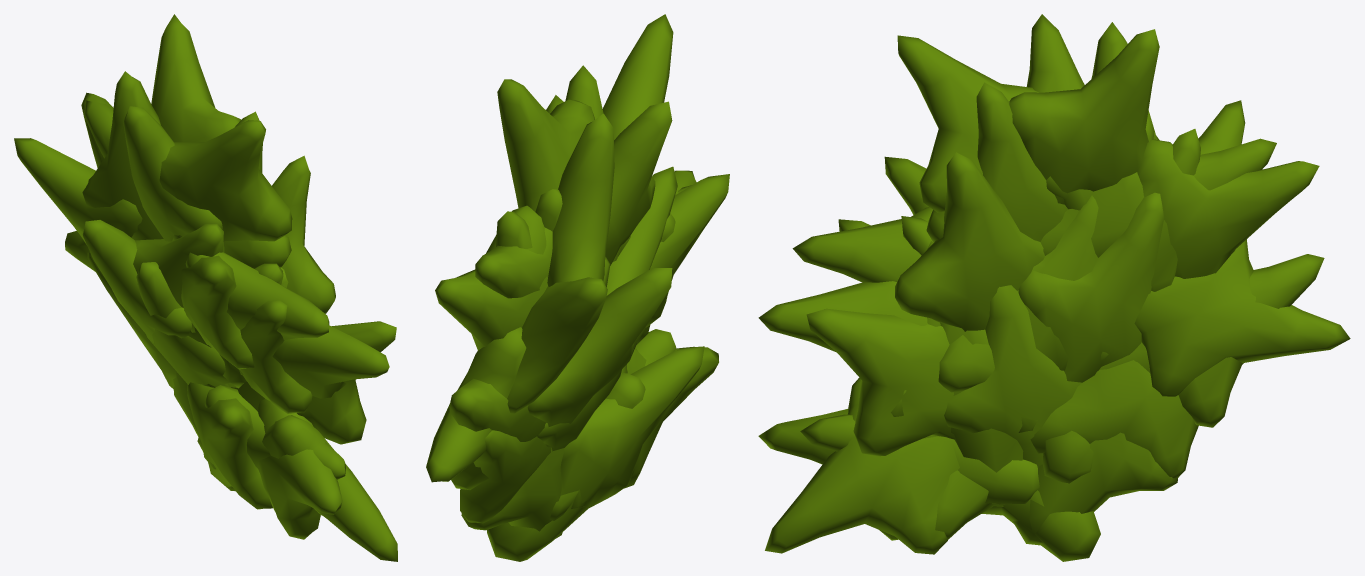
File: Moss.fbx
The picture shows the model from 3 angles, left to right: view 1: azimuth 30°, elevation 25°; view 2: azimuth 150°, elevation 25°; view 3: azimuth 270°, elevation 25°; orthographic projection. The views are drawn at different scales.
Parts seen in each view (by area): view 1: MossKinda; view 2: MossKinda; view 3: MossKinda.
Part boxes in pixels (box(x1,y1,x2,y2)): MossKinda: box(14, 14, 397, 561); MossKinda: box(426, 14, 729, 561); MossKinda: box(758, 14, 1350, 561).
Size of the model in its own units: 15.93 by 35.12 by 36.66.
